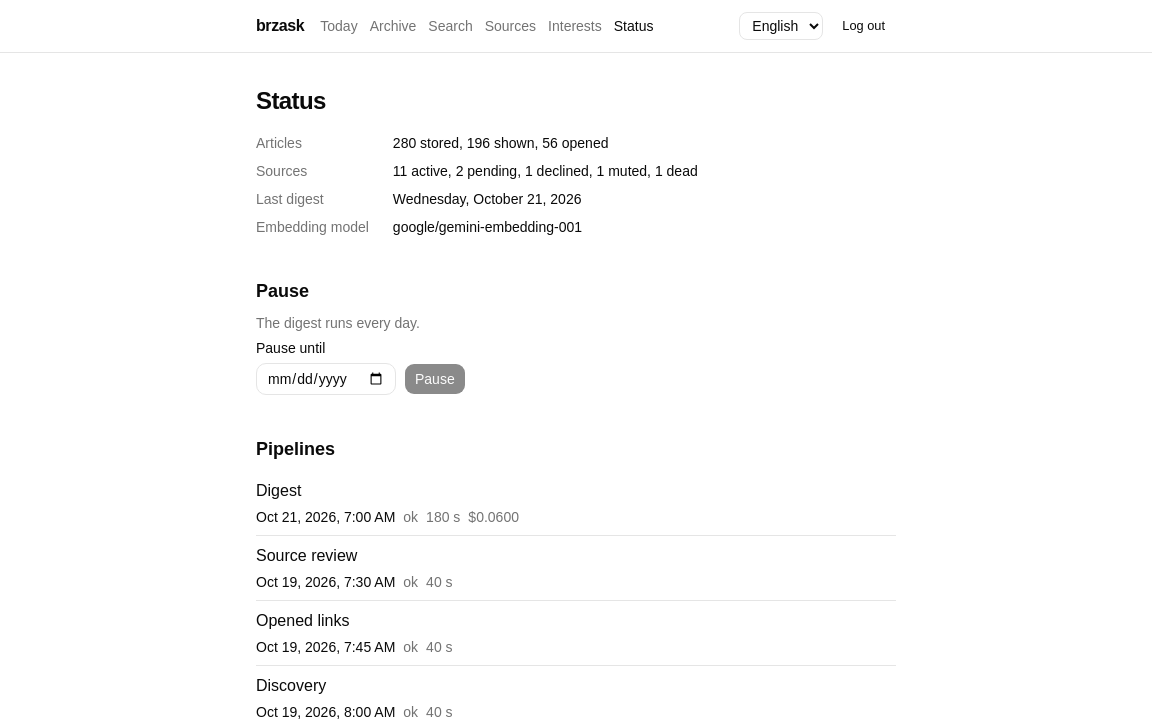
Test: pauses and resumes
This screenshot has width=1152, height=720.
Type "2099-01-01" into the date field labelled "Pause until". click: x=326, y=379
box: [256, 363, 396, 395]
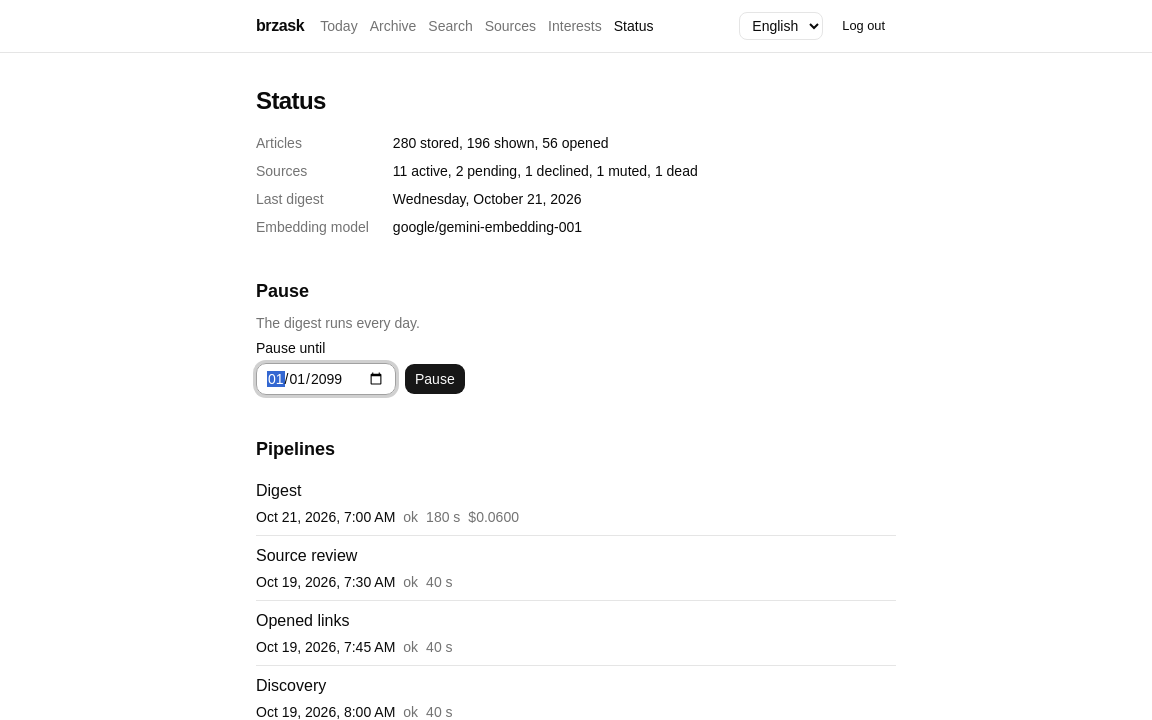
Click the button "Pause". click: x=435, y=379
box: [404, 363, 466, 395]
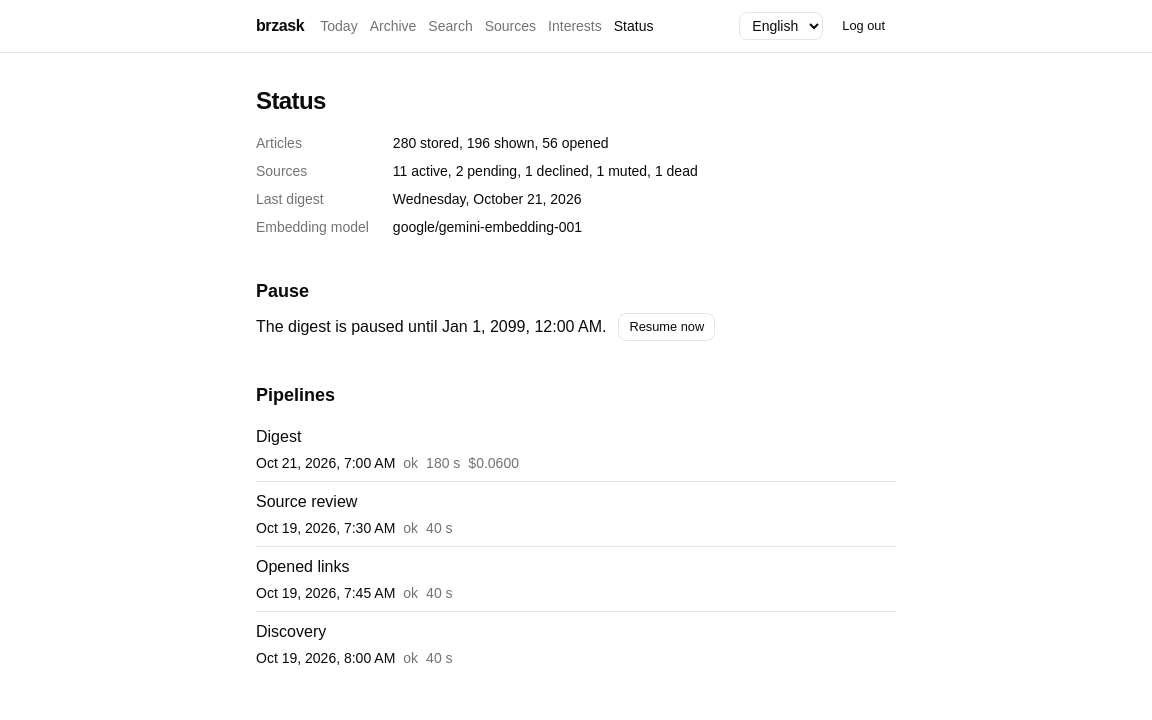
Click the button "Resume now". click: x=667, y=327
box: [618, 313, 715, 341]
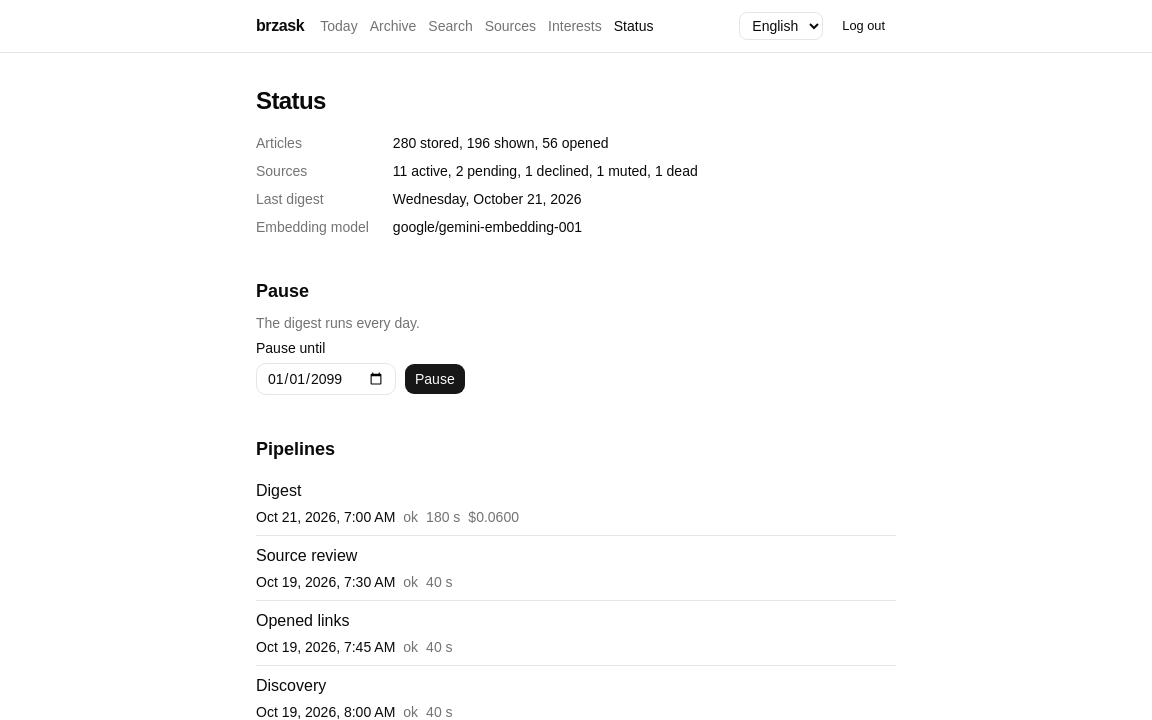
Expected: the text "The digest runs every day." is shown, [256, 315, 420, 331]
